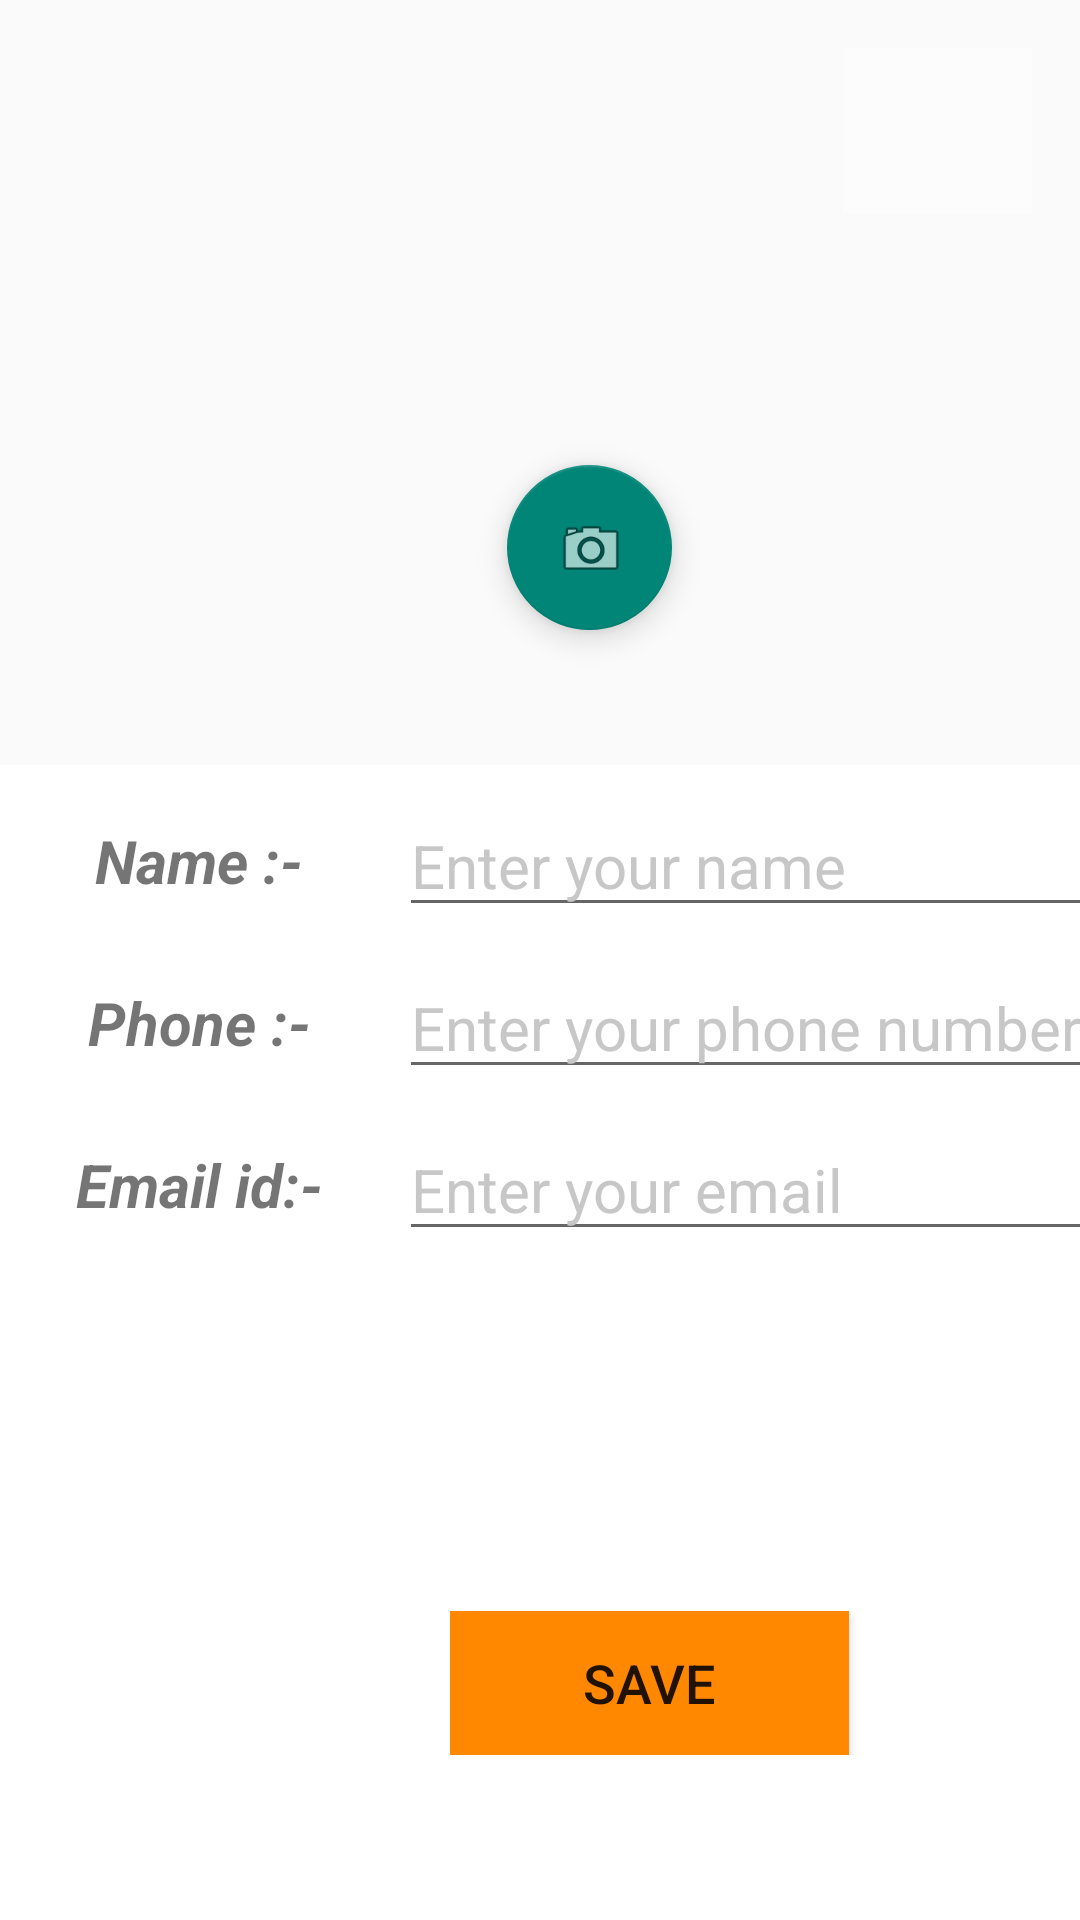

Named icons in this screenshot (1080x1920) and their centers, (x=x, y=y):
camera: (x=589, y=547)
